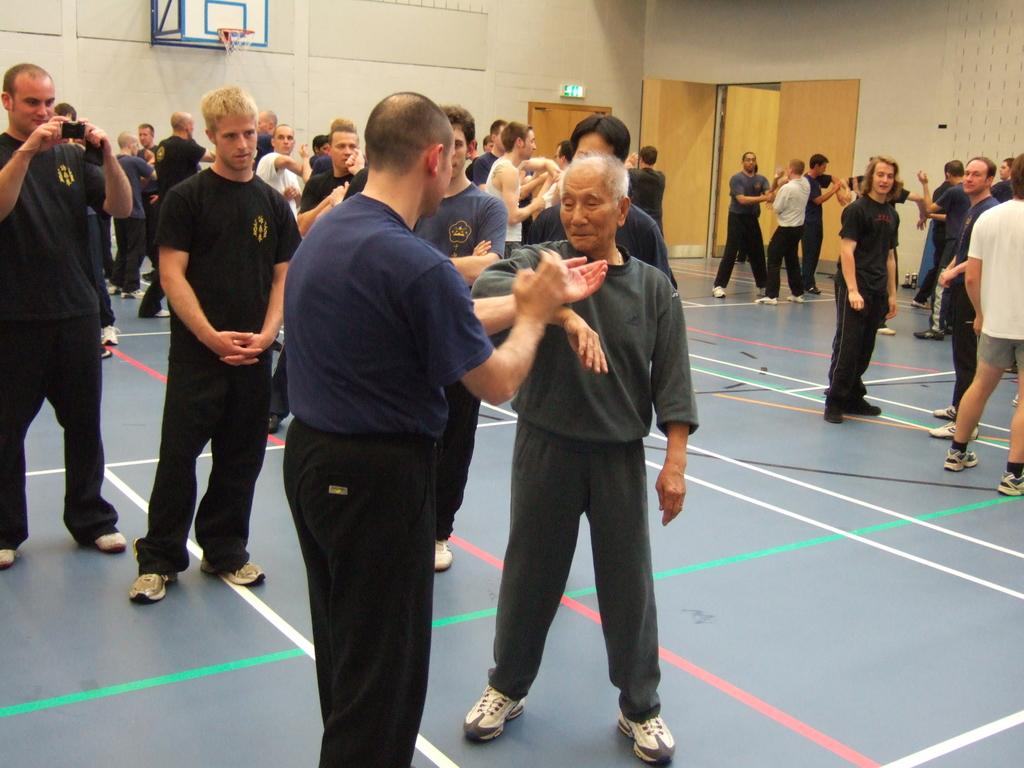no_helmet: (344, 154, 466, 236), (542, 206, 636, 252), (190, 152, 268, 204), (0, 128, 62, 185), (856, 200, 910, 244), (949, 208, 987, 236)
none: (282, 237, 480, 446), (507, 288, 692, 452), (148, 228, 292, 395), (0, 193, 130, 349), (840, 242, 918, 334), (972, 244, 1024, 364)
